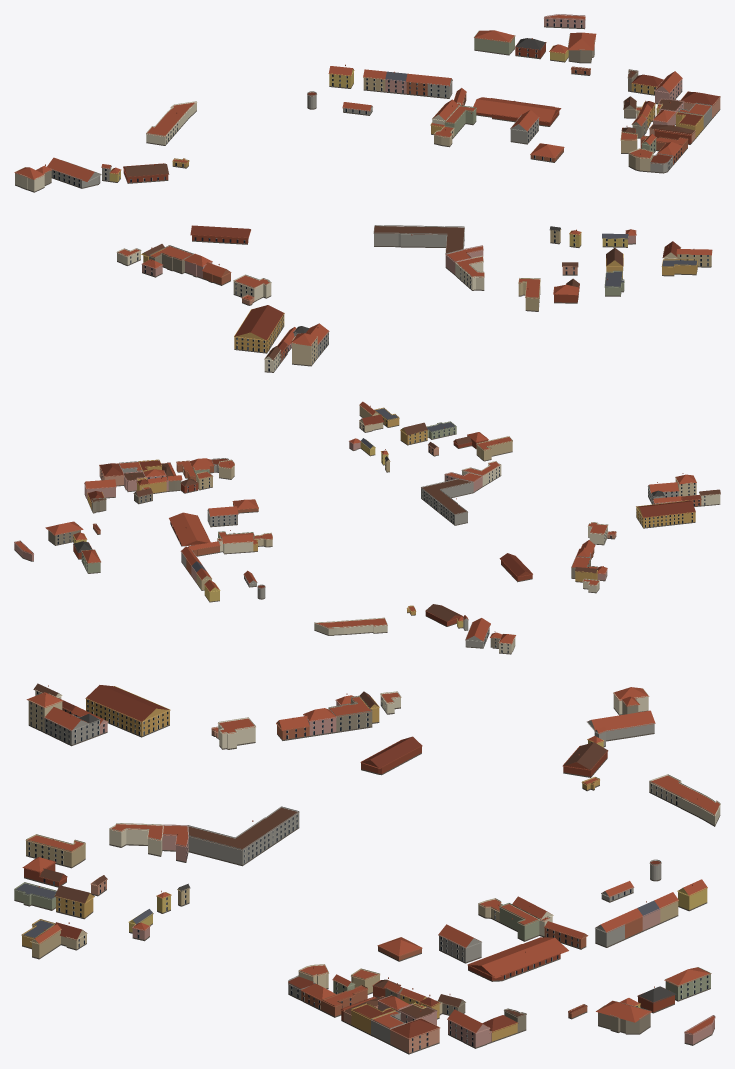
Rendered from Budynki_2_2.fbx.
The picture shows the model from 3 angles, top to bottom: view 1: azimuth 30°, elevation 25°; view 2: azimuth 150°, elevation 25°; view 3: azimuth 270°, elevation 25°; orthographic projection. The views are drawn at different scales.
Visible parts, largest first — view 1: Bud_87971435, Bud_259806340, Bud_1434854356, Bud_1008933772, Bud_372071363, Bud_286558721, Bud_372071342, Bud_183970963, Bud_286207743, Bud_440159967, Bud_289035434, Bud_183970961 (+9 smaller); view 2: Bud_87971435, Bud_259806340, Bud_1008933772, Bud_1434854356, Bud_183970971, Bud_440159967, Bud_372071326, Bud_372071363, Bud_372071356, Bud_286558721, Bud_286207743, Bud_850746724 (+4 smaller); view 3: Bud_87971435, Bud_259806340, Bud_1434854356, Bud_1008933772, Bud_440159967, Bud_183970971, Bud_372071363, Bud_183970963, Bud_289044571, Bud_286558721, Bud_286558708, Bud_372071326 (+23 smaller).
Boxes of the visible parts, <box> form: Bud_87971435: <box>373,225,464,254</box>; Bud_259806340: <box>234,305,284,353</box>; Bud_1434854356: <box>473,97,561,126</box>; Bud_1008933772: <box>146,101,197,145</box>; Bud_372071363: <box>47,157,101,188</box>; Bud_286558721: <box>190,225,250,244</box>; Bud_372071342: <box>474,30,515,55</box>; Bud_183970963: <box>455,255,484,290</box>; Bud_286207743: <box>123,163,169,183</box>; Bud_440159967: <box>567,32,596,63</box>; Bud_289035434: <box>290,331,317,366</box>; Bud_183970961: <box>233,274,271,301</box>; Bud_87971435: <box>421,478,473,525</box>; Bud_259806340: <box>636,500,695,528</box>; Bud_1008933772: <box>314,617,387,635</box>; Bud_1434854356: <box>169,512,210,546</box>; Bud_183970971: <box>476,436,512,461</box>; Bud_440159967: <box>45,521,83,545</box>; Bud_372071326: <box>207,506,238,527</box>; Bud_372071363: <box>465,618,490,648</box>; Bud_372071356: <box>221,533,253,554</box>; Bud_286558721: <box>499,553,532,582</box>; Bud_286207743: <box>425,604,462,626</box>; Bud_850746724: <box>400,422,427,445</box>; Bud_87971435: <box>187,806,299,866</box>; Bud_259806340: <box>85,685,170,737</box>; Bud_1434854356: <box>467,937,568,981</box>; Bud_1008933772: <box>649,774,720,826</box>; Bud_440159967: <box>596,1000,651,1034</box>; Bud_183970971: <box>25,834,85,868</box>; Bud_372071363: <box>587,710,655,741</box>; Bud_183970963: <box>109,823,163,856</box>; Bud_289044571: <box>389,1018,440,1054</box>; Bud_286558721: <box>360,736,422,775</box>; Bud_286558708: <box>44,707,89,746</box>; Bud_372071326: <box>438,924,481,963</box>.
Bounding box in the file's own units: 517 × 23.5 × 438.
